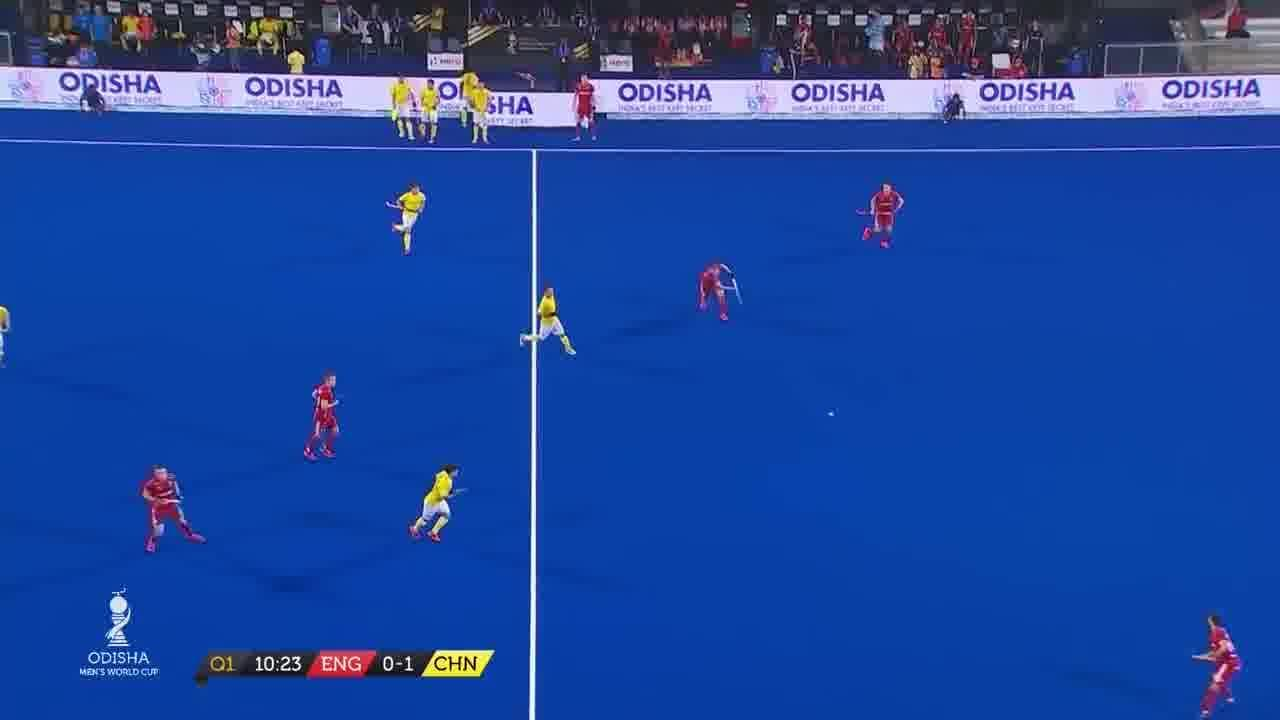ball: (823, 400, 840, 432)
